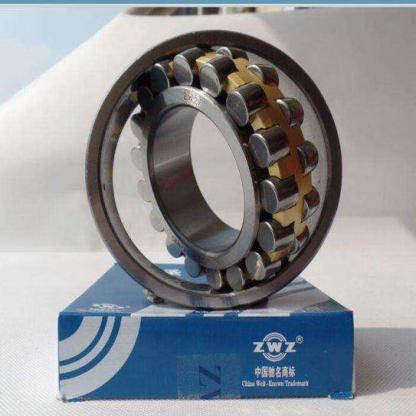FOD: (76, 13, 348, 314)
